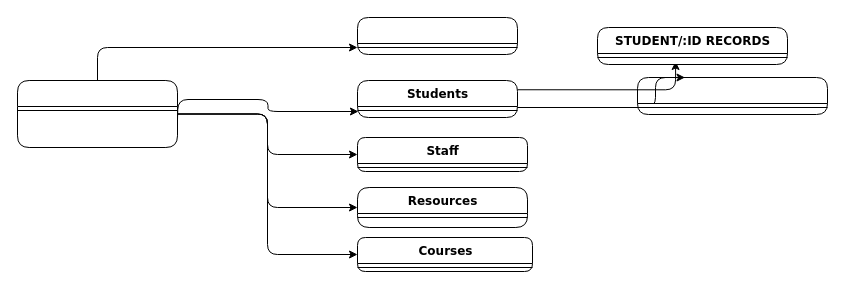
Some shapes in this 845 by 289 pixel diagram are drawn without their labels. The shapes that lost their labels are listed below. From the top down, each one's centre as x and y in pixels, then its label:
At point (437, 35): "Attendance".
At point (97, 114): "Adminitrator".
At point (732, 95): "COURSE :ID".
